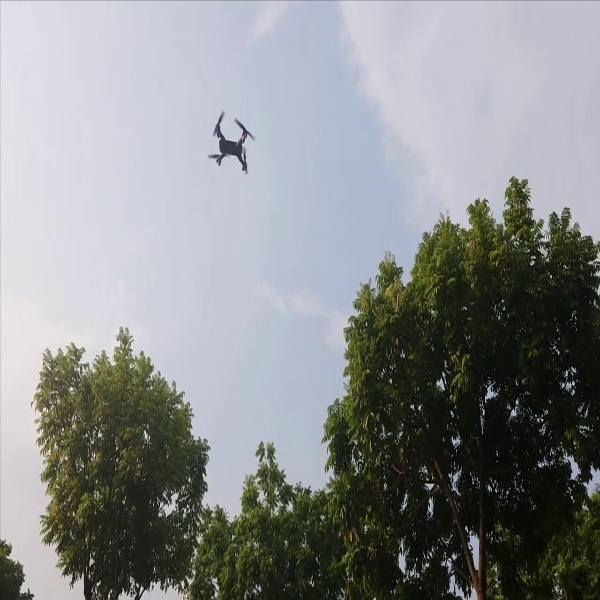drone: (201, 102, 267, 190)
